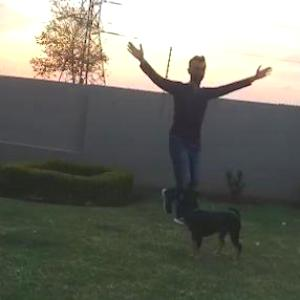takeoff: (132, 47, 262, 213)
